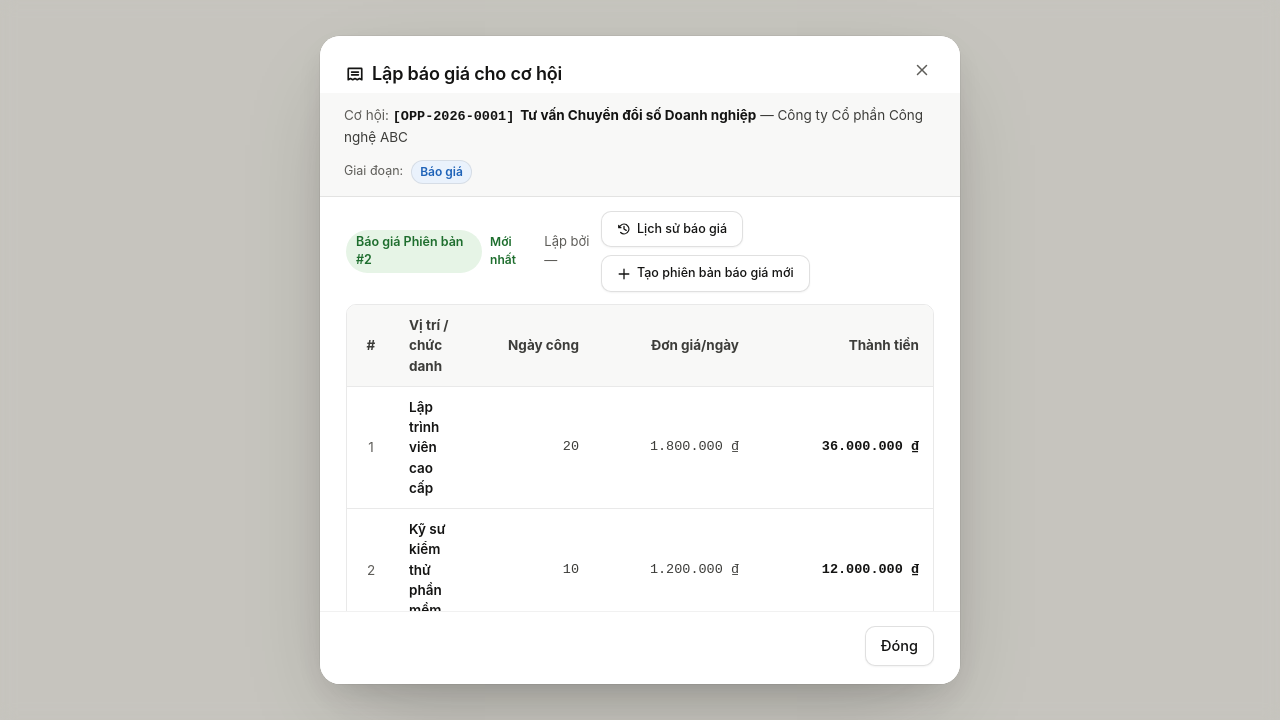
Test: QuoteBuilder Component (NCL-03-CN-003-CV-03 & CV-05) › TC-03: mở lại cửa sổ thì hiện phiên bản mới nhất đã lập, lịch sử giữ mọi phiên bản và đánh dấu bản mới nhất
Expected: the text "Báo giá Phiên bản #2" is shown, [346,230,482,273]
Click the button "Lịch sử báo giá": (672, 229) [601,210,743,247]
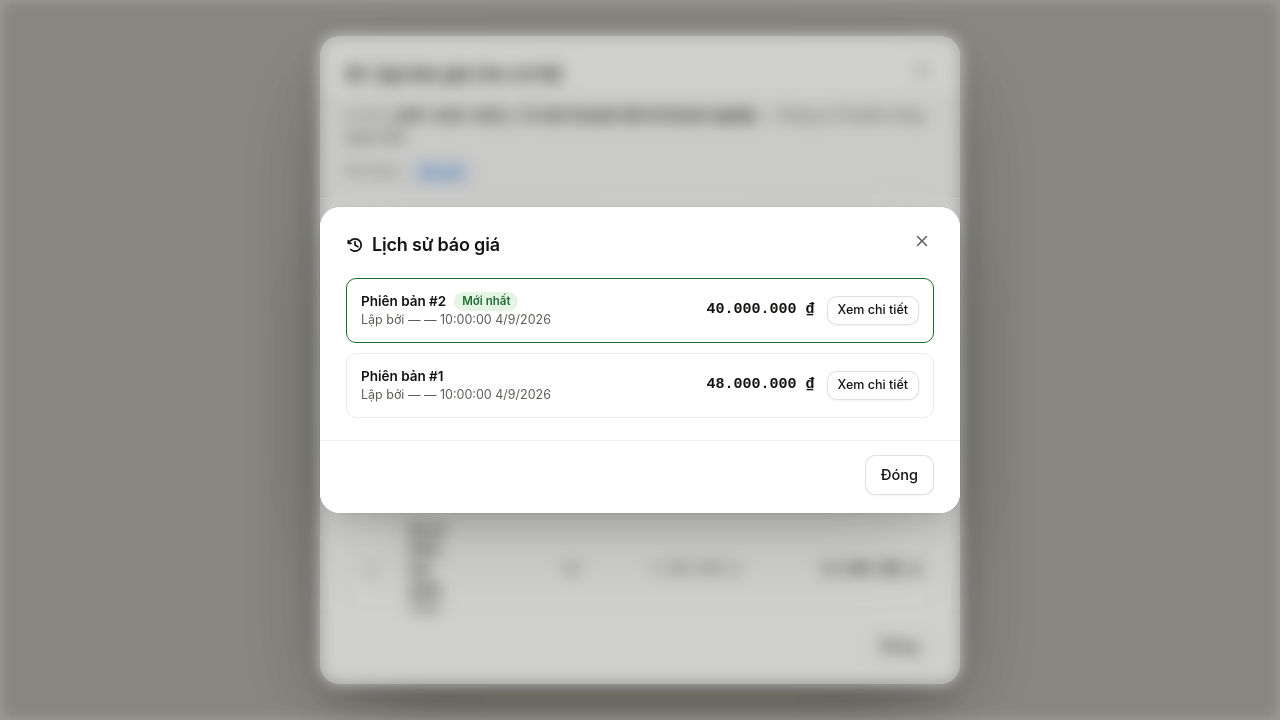
Expected: the element with test id "quote-history-item-1" does not show "Mới nhất", [346,353,934,418]
Expected: the element with test id "quote-history-item-2" shows "Mới nhất", [462,294,510,308]
// Xem lại phiên bản cũ — vẫn tra cứu được, gắn nhãn "Phiên bản cũ".
Click the button "Xem chi tiết" next to "48.000.000 ₫": (873, 386) [827,371,919,400]
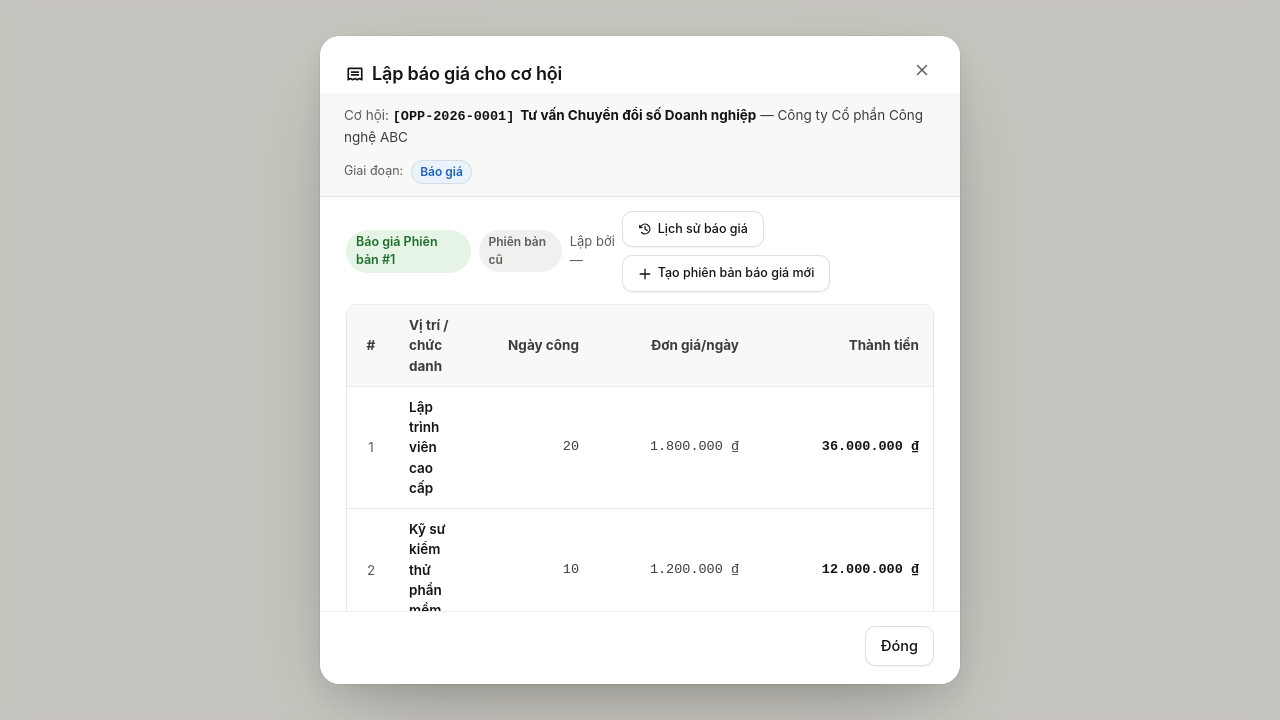
Expected: the text "Báo giá Phiên bản #1" is shown, [346,230,470,273]
Expected: the text "Phiên bản cũ" is shown, [478,230,562,272]
